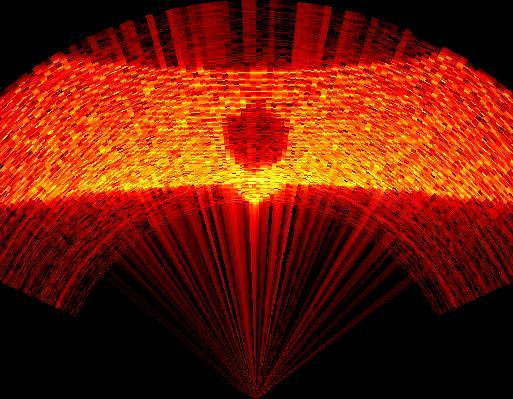box_crate: (218, 93, 295, 208)
